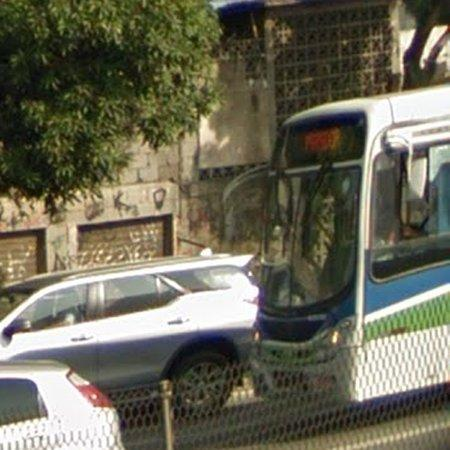buses: (253, 85, 450, 409)
